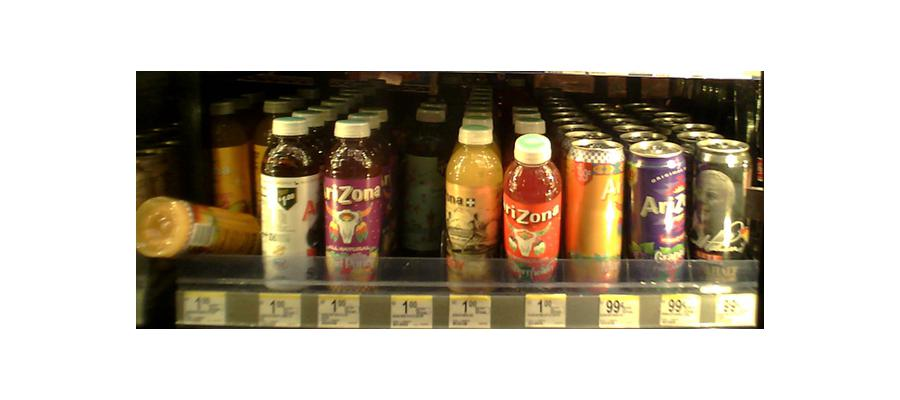bottle: (323, 112, 383, 286), (258, 115, 319, 286), (563, 128, 623, 284), (448, 118, 503, 285), (629, 136, 688, 288), (506, 129, 561, 288), (694, 133, 747, 287), (399, 105, 447, 261)
